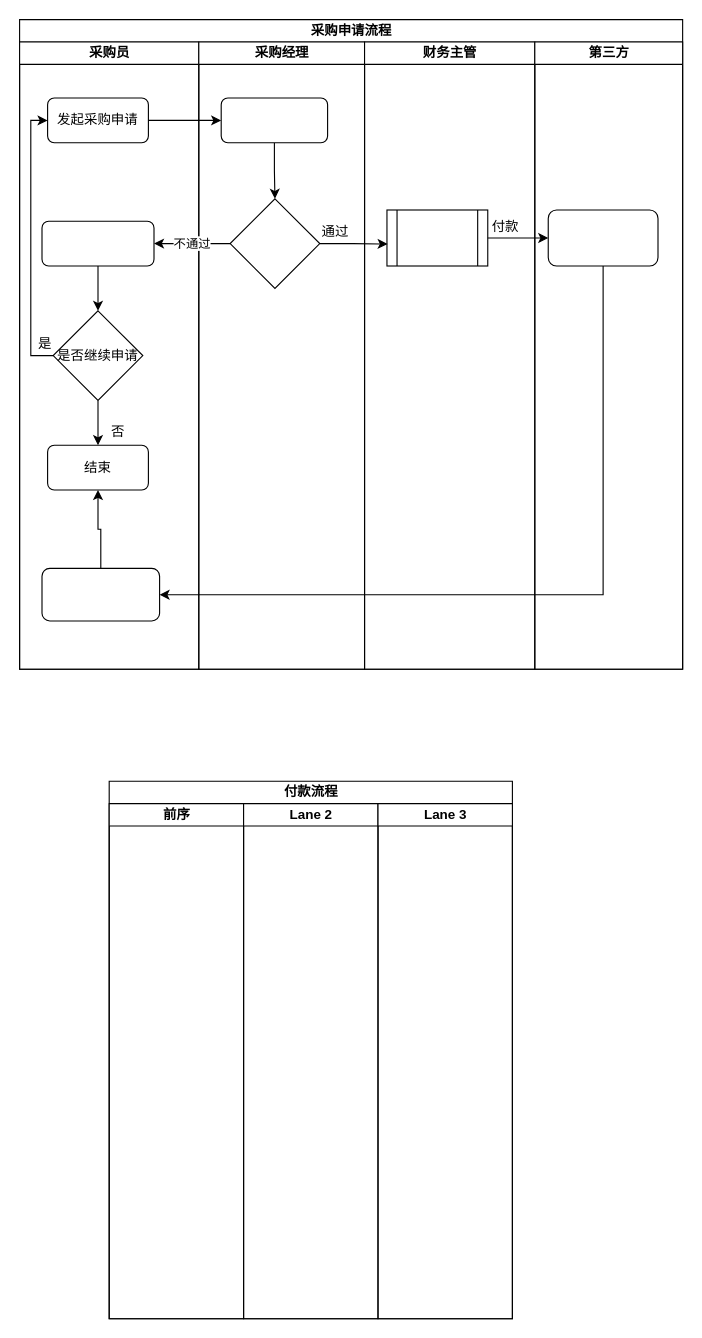
Image size: 702x1338. Some labels were removed from this diagram. The centre of each missing label's shape, as x and y in pixels:
"付费流程" goes at pixel 437 237.
"发货" goes at pixel 602 237.
"收货确认" goes at pixel 100 594.
"是否审批通过" goes at pixel 274 243.
"调整采购申请" goes at pixel 97 243.
"采购经理审批" goes at pixel 274 120.
